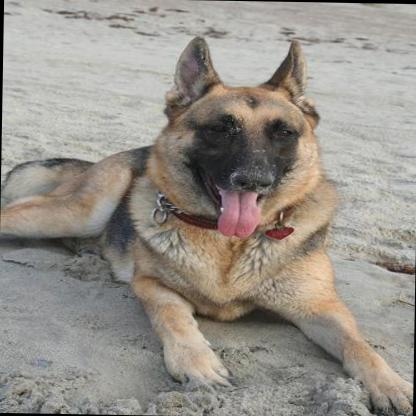German_shepherd: (0, 9, 415, 416)
